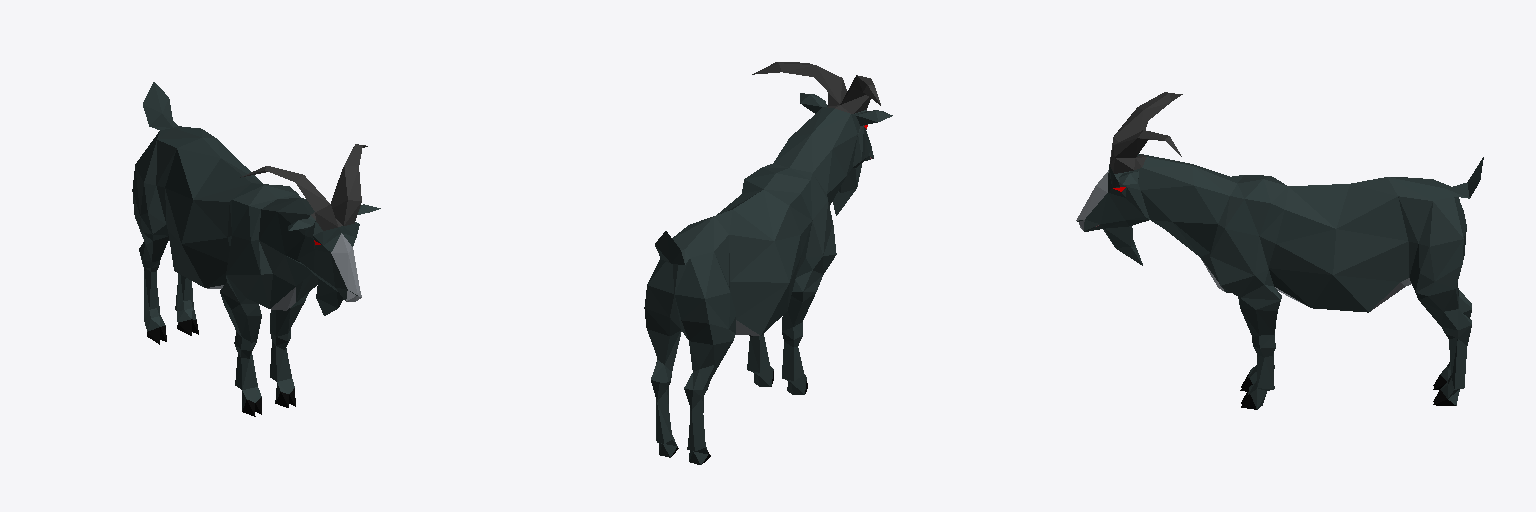
Rendered from goat_colorMap.obj.
3 views of the same model, side by side, from view 1: azimuth 30°, elevation 25°; view 2: azimuth 150°, elevation 25°; view 3: azimuth 270°, elevation 25° (orthographic).
Size of the model in its own units: 41.85 by 87.14 by 114.